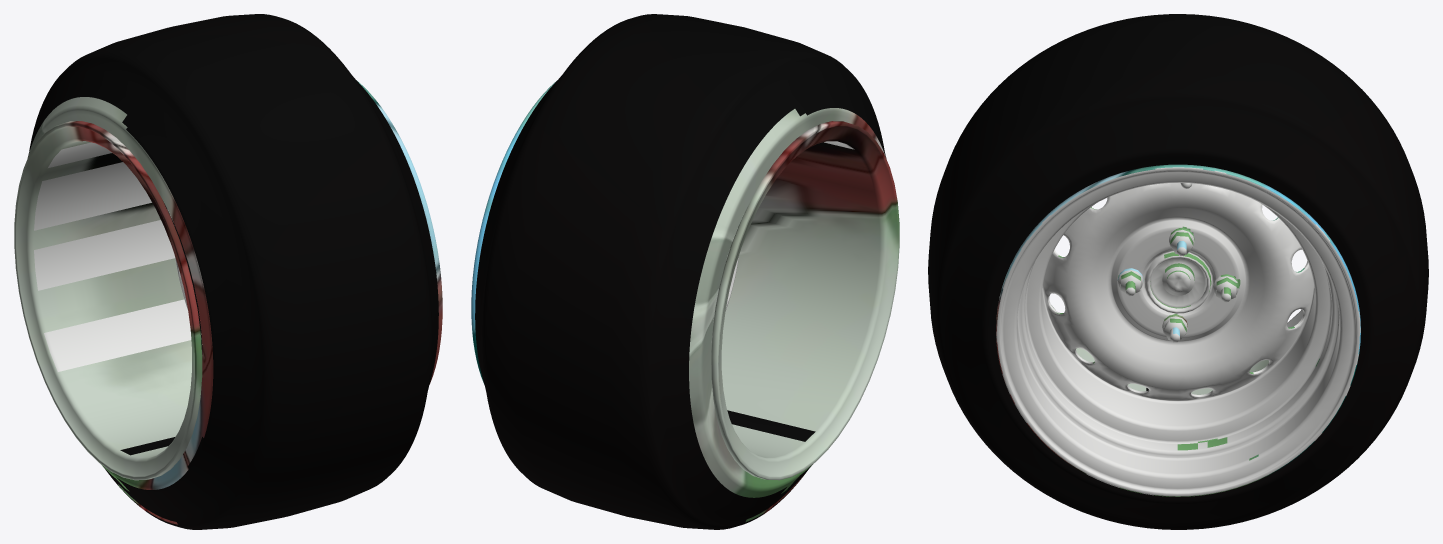
Rendered from llantaID.obj.
3 views of the same model, side by side, from view 1: azimuth 30°, elevation 25°; view 2: azimuth 150°, elevation 25°; view 3: azimuth 270°, elevation 25° (orthographic).
Visible parts, largest first — view 1: Wheel_195_50R13x10_002; view 2: Wheel_195_50R13x10_002; view 3: Wheel_195_50R13x10_002.
Part boxes in pixels (x1,y1,x2,y2): Wheel_195_50R13x10_002: [14, 14, 442, 529]; Wheel_195_50R13x10_002: [471, 14, 899, 529]; Wheel_195_50R13x10_002: [928, 14, 1428, 529].
Size of the model in its own units: 2.03 by 3.58 by 3.58.
